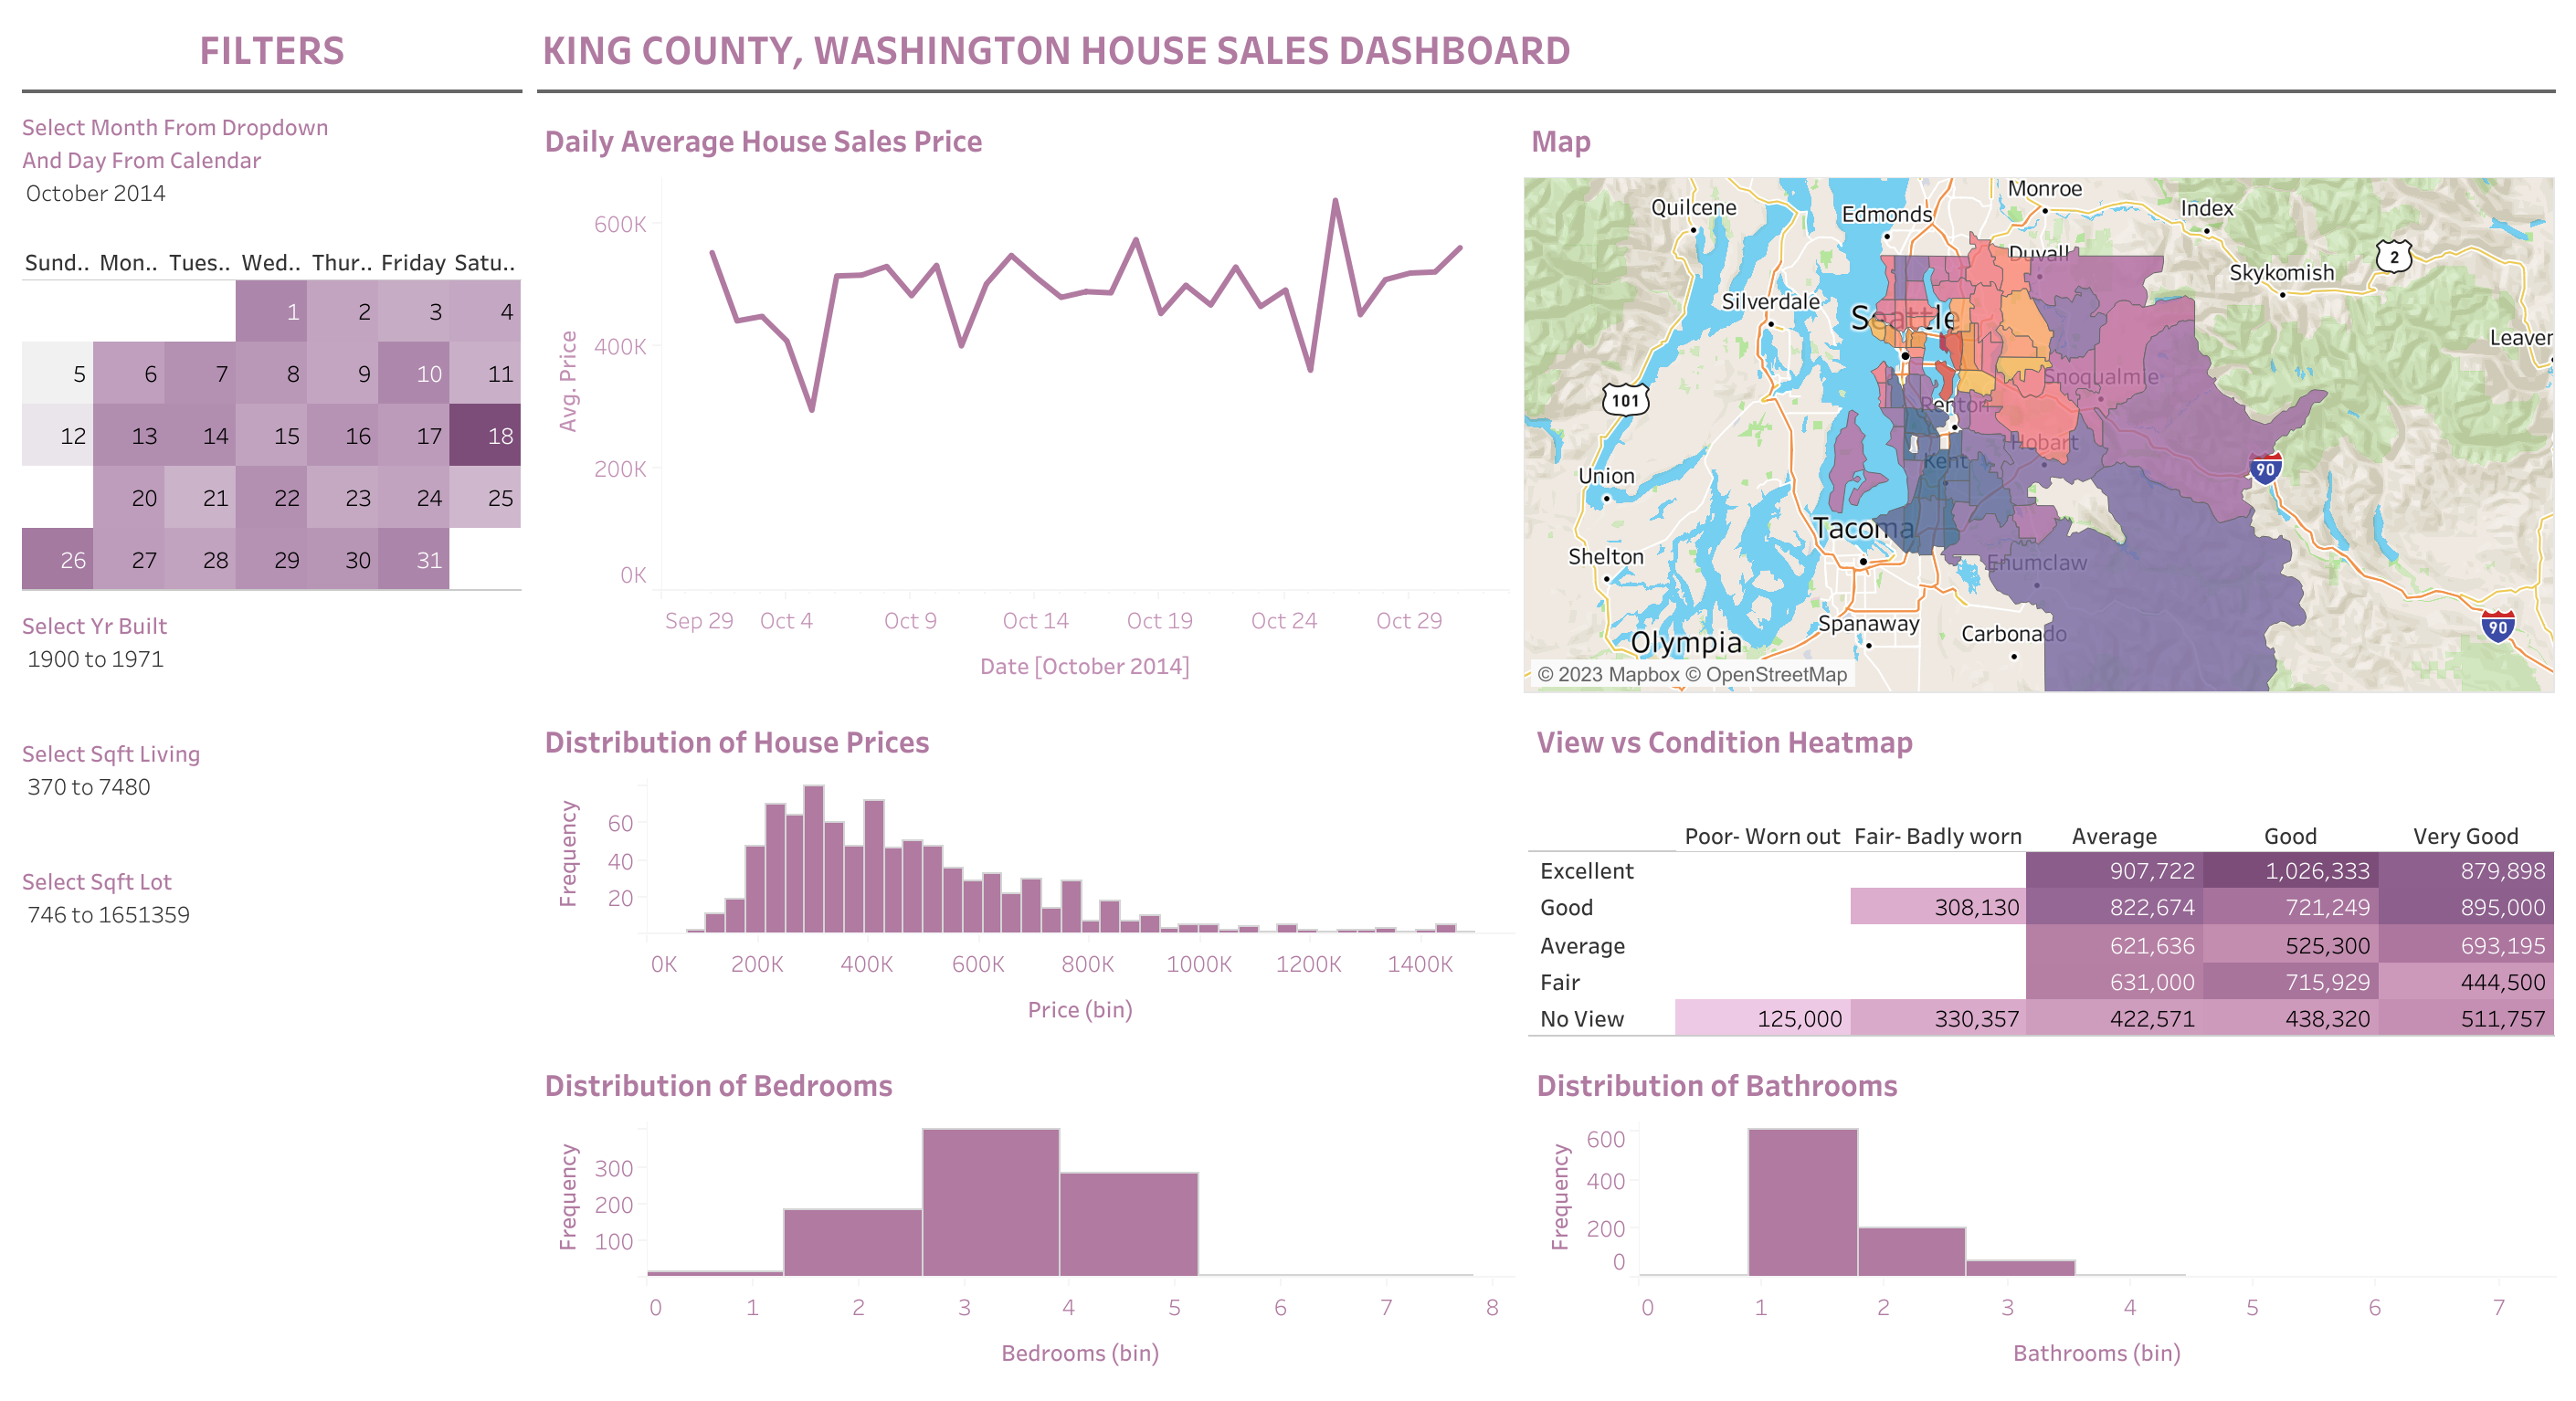

The page's visual inventory and layout, read from the dashboard file:
{"tool":"tableau","page":{"name":"KingCountyHouseSales","canvas":[1000,1000],"units":"permille","ordinal":0},"visuals":[{"type":"text","box":[5.9,10.4,199.8,48.2]},{"type":"text","box":[205.7,10.4,788.4,48.2]},{"type":"blank","box":[5.9,58.6,199.8,13]},{"type":"blank","box":[205.7,58.6,788.4,13]},{"type":"filter","title":"Calendar","param":"[federated.14vsmoo0c83mri1csfxg113oma8j].[my:date:ok]","box":[5.9,71.6,199.8,96.4]},{"type":"worksheet","title":"LineChart","mark":"Automatic","rows":["price"],"cols":["date"],"box":[205.7,71.6,381.8,428.4]},{"type":"worksheet","title":"Map","mark":"Automatic","box":[587.5,71.6,406.7,428.4]},{"type":"worksheet","title":"Calendar","mark":"Square","rows":["date"],"cols":["date"],"box":[5.9,168,199.8,259.1]},{"type":"filter","title":"Calendar","param":"[federated.14vsmoo0c83mri1csfxg113oma8j].[none:yr_built:qk]","box":[5.9,427.1,199.8,91.2]},{"type":"worksheet","title":"HistHousePrice","mark":"Automatic","rows":["price"],"cols":["Price (bin)"],"box":[205.7,500,384.3,244.8]},{"type":"worksheet","title":"Heatmap","mark":"Square","rows":["view"],"cols":["condition"],"box":[590,500,404.1,244.8]},{"type":"filter","title":"Calendar","param":"[federated.14vsmoo0c83mri1csfxg113oma8j].[none:sqft_living:qk]","box":[5.9,518.2,199.8,91.2]},{"type":"filter","title":"Calendar","param":"[federated.14vsmoo0c83mri1csfxg113oma8j].[none:sqft_lot:qk]","box":[5.9,609.4,199.8,91.2]},{"type":"worksheet","title":"HistBedrooms","mark":"Automatic","rows":["bedrooms"],"cols":["Bedrooms (bin)"],"box":[205.7,744.8,384.3,244.8]},{"type":"worksheet","title":"HistBathrooms","mark":"Automatic","rows":["bathrooms"],"cols":["Bathrooms (bin)"],"box":[590,744.8,404.1,244.8]}]}

Visuals, with their boxes on the dashboard's canvas, which has no fixed pixel size, in thousandths of its width and height (x1, y1, x2, y2). These are canvas units, not pixel positions in the 2576x1401 screenshot, which may show the page scaled, cropped or inside an application window:
text: {"x1": 6, "y1": 10, "x2": 206, "y2": 59}
text: {"x1": 206, "y1": 10, "x2": 994, "y2": 59}
blank: {"x1": 6, "y1": 59, "x2": 206, "y2": 72}
blank: {"x1": 206, "y1": 59, "x2": 994, "y2": 72}
"Calendar" filter: {"x1": 6, "y1": 72, "x2": 206, "y2": 168}
"LineChart" worksheet: {"x1": 206, "y1": 72, "x2": 588, "y2": 500}
"Map" worksheet: {"x1": 588, "y1": 72, "x2": 994, "y2": 500}
"Calendar" worksheet (Square marks): {"x1": 6, "y1": 168, "x2": 206, "y2": 427}
"Calendar" filter: {"x1": 6, "y1": 427, "x2": 206, "y2": 518}
"HistHousePrice" worksheet: {"x1": 206, "y1": 500, "x2": 590, "y2": 745}
"Heatmap" worksheet (Square marks): {"x1": 590, "y1": 500, "x2": 994, "y2": 745}
"Calendar" filter: {"x1": 6, "y1": 518, "x2": 206, "y2": 609}
"Calendar" filter: {"x1": 6, "y1": 609, "x2": 206, "y2": 701}
"HistBedrooms" worksheet: {"x1": 206, "y1": 745, "x2": 590, "y2": 990}
"HistBathrooms" worksheet: {"x1": 590, "y1": 745, "x2": 994, "y2": 990}
